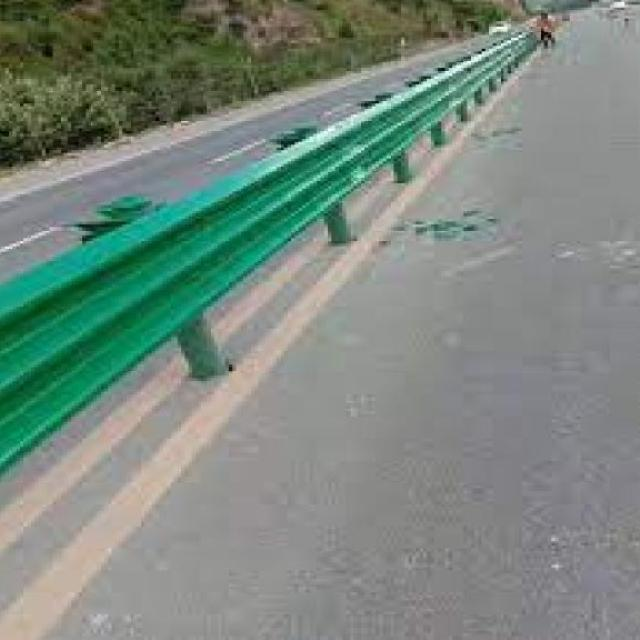Guard rail: (0, 32, 534, 477)
